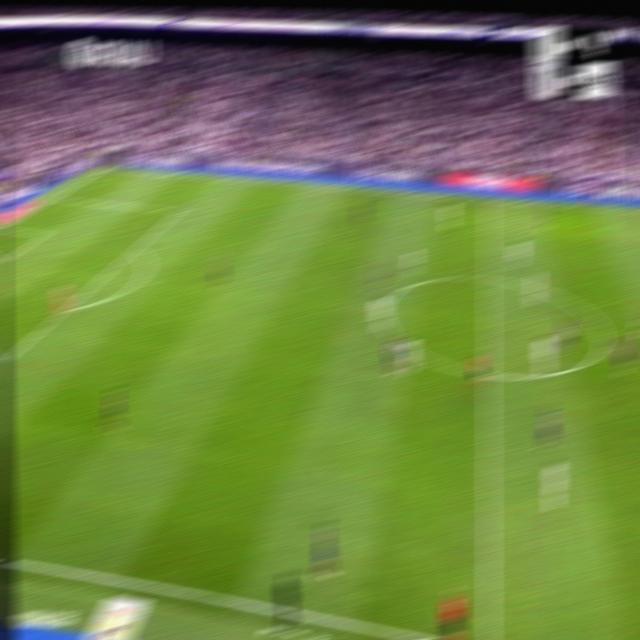bigarea_top_inner: (172, 205, 184, 216)
bottom_arc_area_intersection: (58, 303, 71, 314)
halfcircle_bottom: (479, 362, 497, 385)
halfcircle_top: (479, 267, 498, 289)
midline_top_intersection: (481, 194, 495, 205)
smallarea_top_inner: (39, 229, 51, 237)
top_arc_area_intersection: (128, 242, 141, 253)
